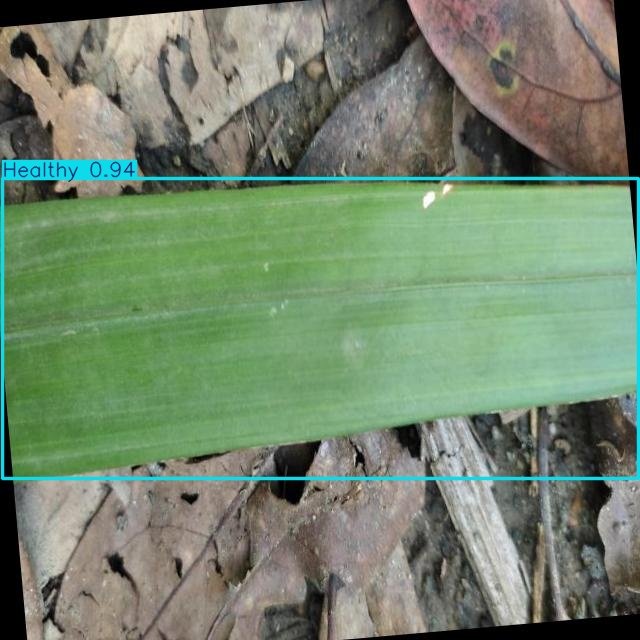Healthy: (2, 178, 639, 479)
